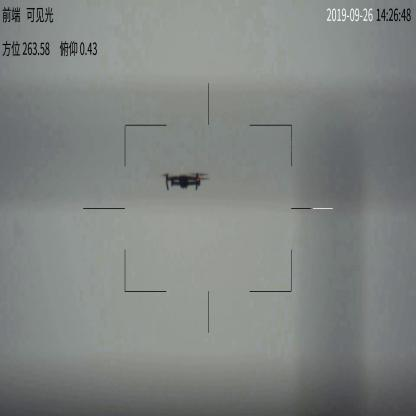uav: (159, 172, 210, 192)
